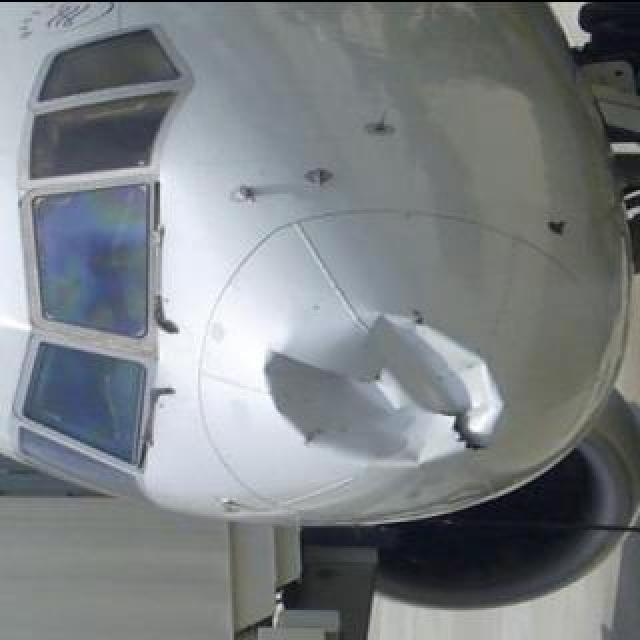crack: (434, 409, 482, 449)
dent: (262, 312, 510, 472)
